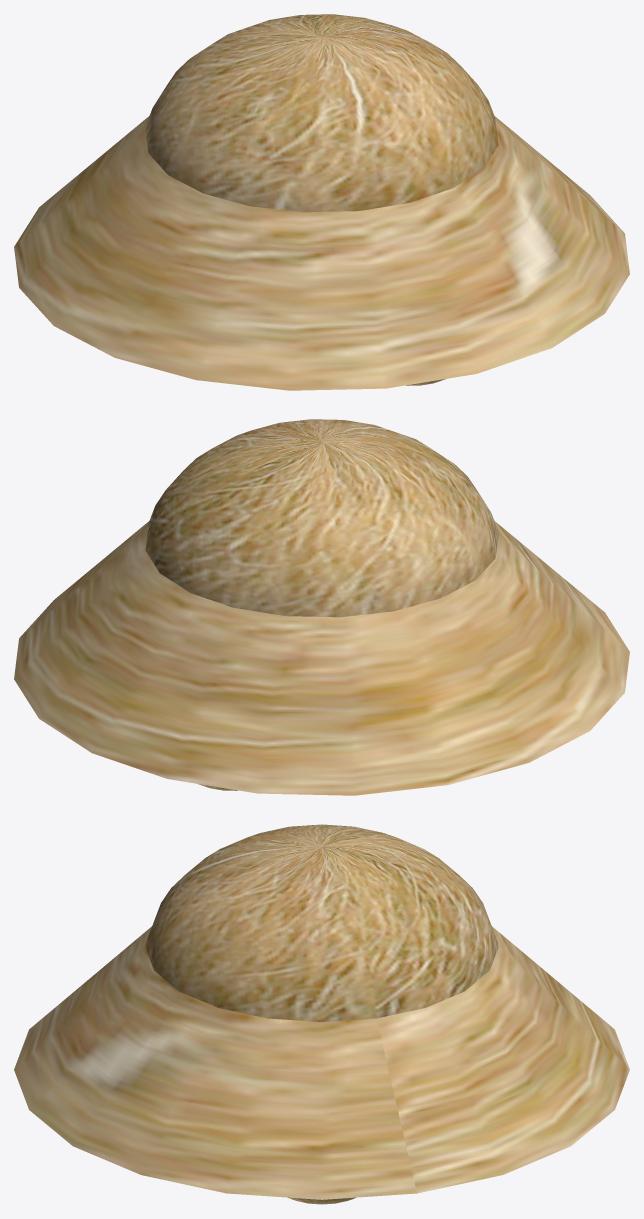
Rendered from UFO.obj.
3 views of the same model, one above another, from view 1: azimuth 30°, elevation 25°; view 2: azimuth 150°, elevation 25°; view 3: azimuth 270°, elevation 25° (orthographic).
Visible parts, largest first — view 1: pCylinder1, pSphere1; view 2: pCylinder1, pSphere1; view 3: pCylinder1, pSphere1.
Boxes of the visible parts, x1,y1,x2,y2 form: pCylinder1: (14,116,629,390); pSphere1: (145,14,498,212); pCylinder1: (14,521,629,795); pSphere1: (145,419,498,617); pCylinder1: (14,926,629,1199); pSphere1: (145,824,498,1021).
Size of the model in its own units: 3.46 by 1.69 by 3.46.
Materials: 3 (3 with a texture image).
